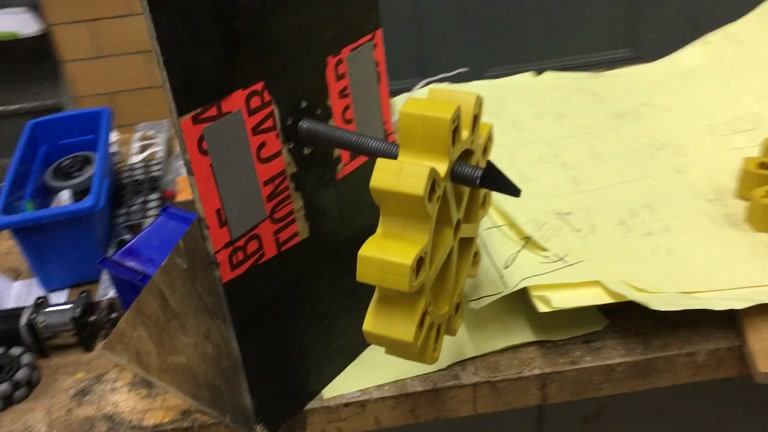gear: (357, 85, 496, 366)
